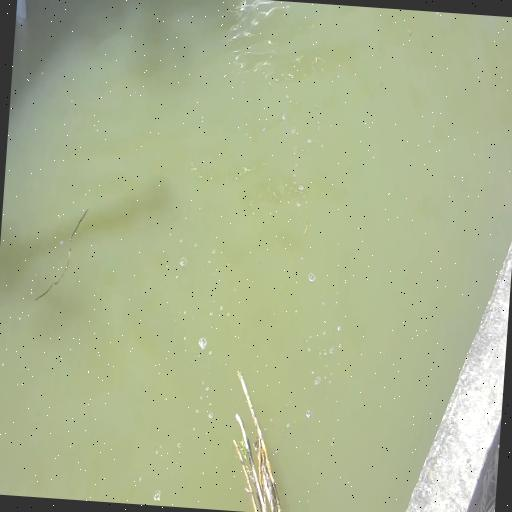twig: (222, 361, 303, 512)
